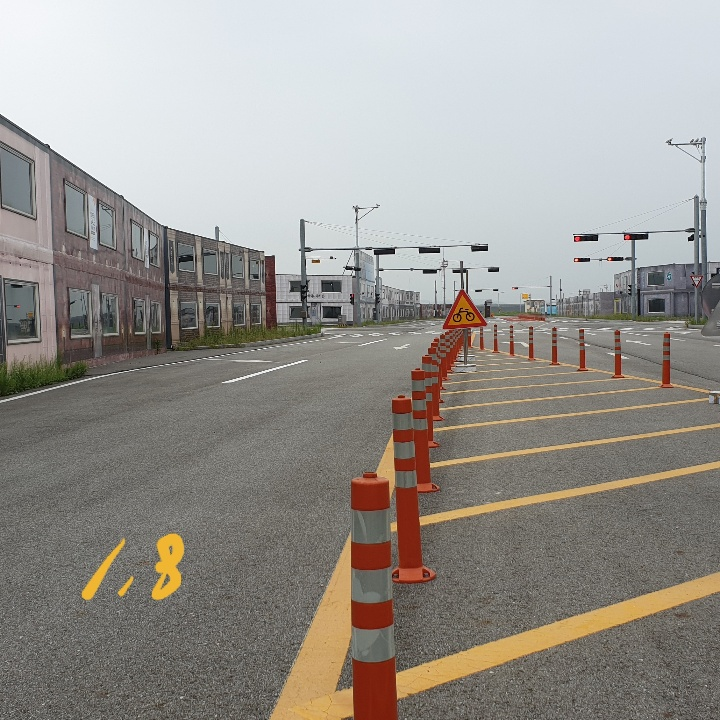bicycle: (442, 287, 487, 330)
